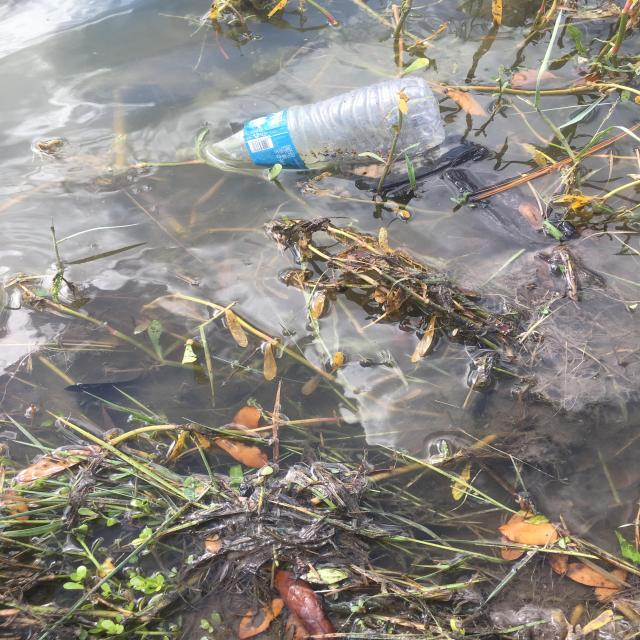litter: (176, 77, 445, 170)
